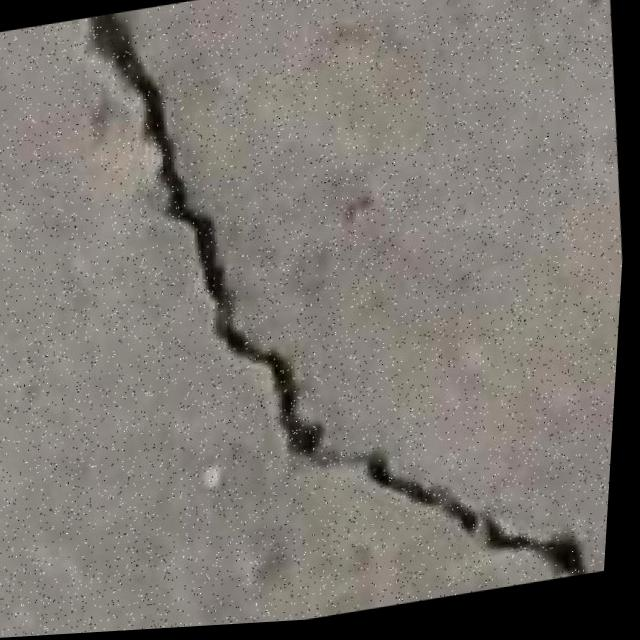Crack: (53, 0, 627, 636)
